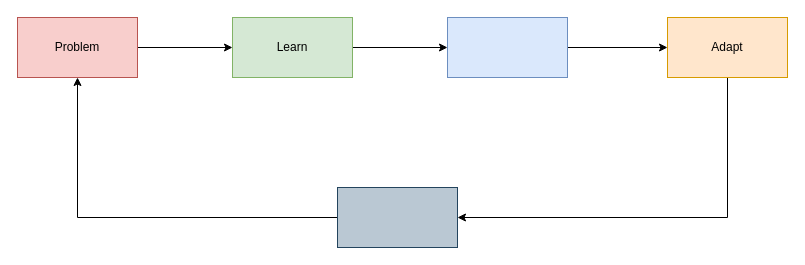
Some shapes in this 805 by 265 pixel diagram are drawn without their labels. Each missing label, with the box of its shape:
Design: (446, 16, 568, 78)
Evaluate: (336, 186, 458, 248)
